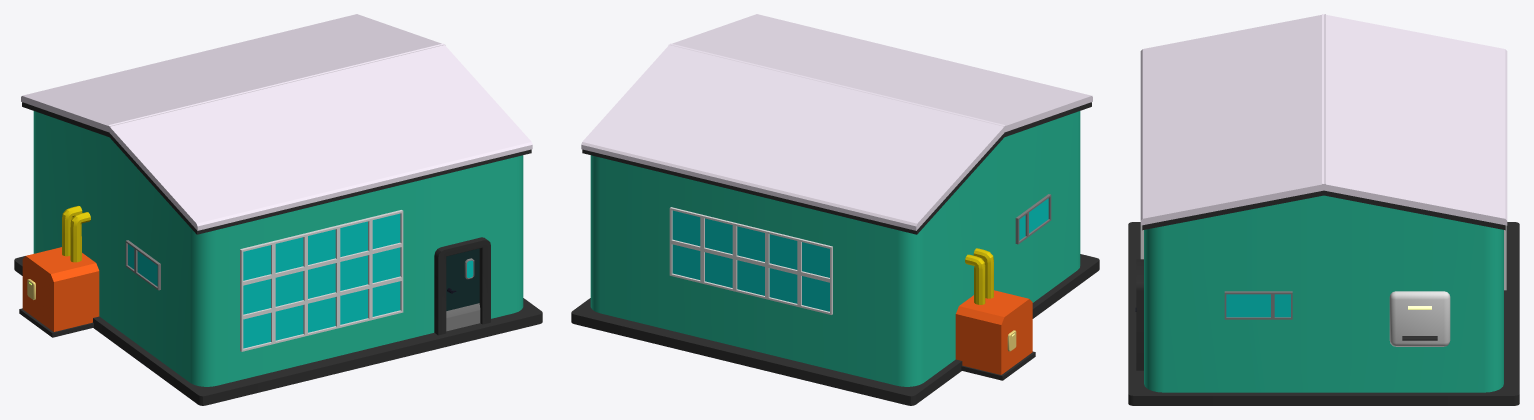
The model's file is smallHouse.fbx.
3 views of the same model, side by side, from view 1: azimuth 30°, elevation 25°; view 2: azimuth 150°, elevation 25°; view 3: azimuth 270°, elevation 25° (orthographic). The views are drawn at different scales.
Visible parts, largest first — view 1: Cube.183; view 2: Cube.183; view 3: Cube.183.
Boxes of the visible parts, <box> form: Cube.183: <box>14,14,542,405</box>; Cube.183: <box>571,14,1099,405</box>; Cube.183: <box>1128,14,1519,405</box>.
Size of the model in its own units: 1009 by 526 by 851.
